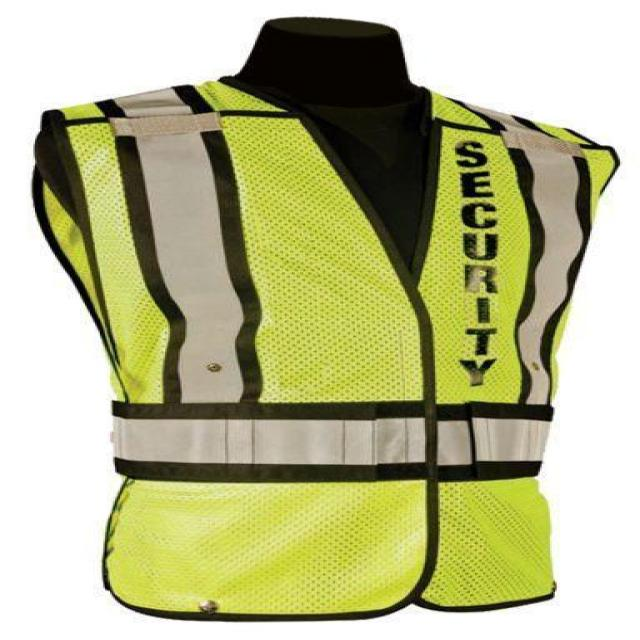Vest: (29, 73, 624, 620)
